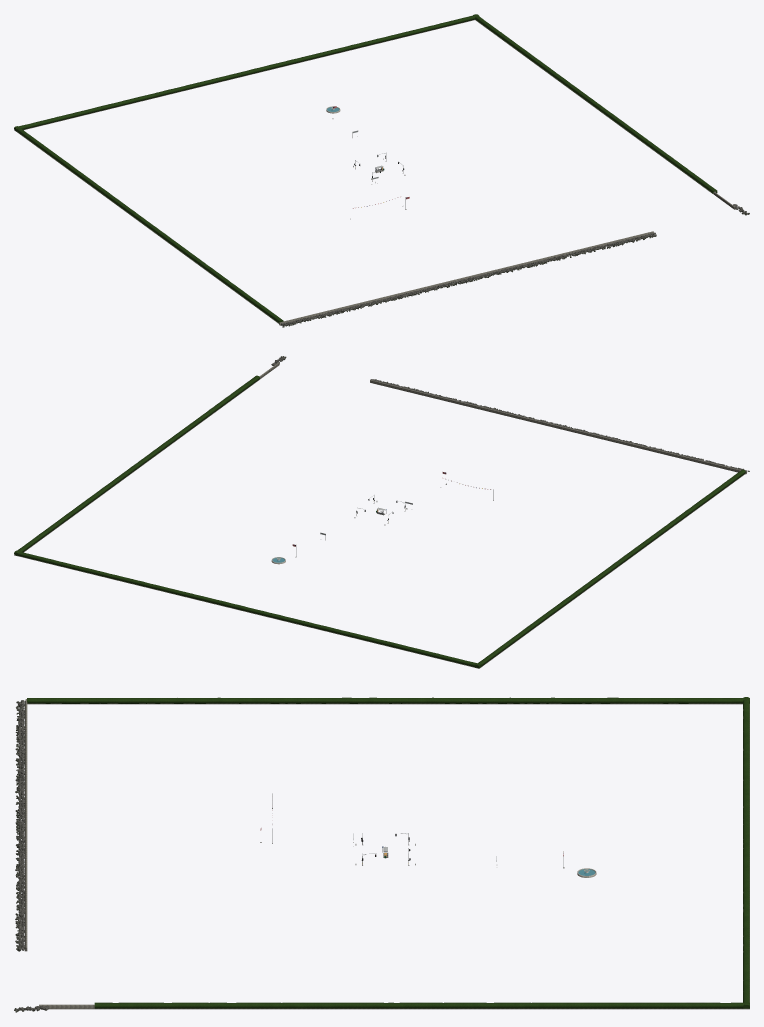
File: LM_ENV_Furniture.glb
3 views of the same model, one above another, from view 1: azimuth 30°, elevation 25°; view 2: azimuth 150°, elevation 25°; view 3: azimuth 270°, elevation 25° (orthographic). The views are drawn at different scales.
Parts seen in each view (by area): view 1: Furniture | Hedge leaves, Furniture | Armour granite, Furniture | Hedge planter kerb, Furniture | Seawall concrete; view 2: Furniture | Hedge leaves, Furniture | Seawall concrete, Furniture | Hedge planter kerb, Furniture | Armour granite; view 3: Furniture | Hedge leaves, Furniture | Hedge planter kerb, Furniture | Armour granite, Furniture | Seawall concrete.
Boxes of the visible parts, bbox=[...] form: Furniture | Hedge leaves: bbox=[14, 14, 717, 323]; Furniture | Armour granite: bbox=[280, 204, 749, 327]; Furniture | Hedge planter kerb: bbox=[14, 19, 716, 323]; Furniture | Seawall concrete: bbox=[279, 191, 735, 325]; Furniture | Hedge leaves: bbox=[14, 375, 745, 668]; Furniture | Seawall concrete: bbox=[260, 362, 746, 474]; Furniture | Hedge planter kerb: bbox=[14, 379, 745, 668]; Furniture | Armour granite: bbox=[271, 356, 749, 472]; Furniture | Hedge leaves: bbox=[27, 697, 749, 1008]; Furniture | Hedge planter kerb: bbox=[27, 703, 749, 1009]; Furniture | Armour granite: bbox=[14, 700, 49, 1012]; Furniture | Seawall concrete: bbox=[24, 699, 94, 1009].
Size of the model in its own units: 318 by 9.12 by 318.
15 materials, 13 textured.
